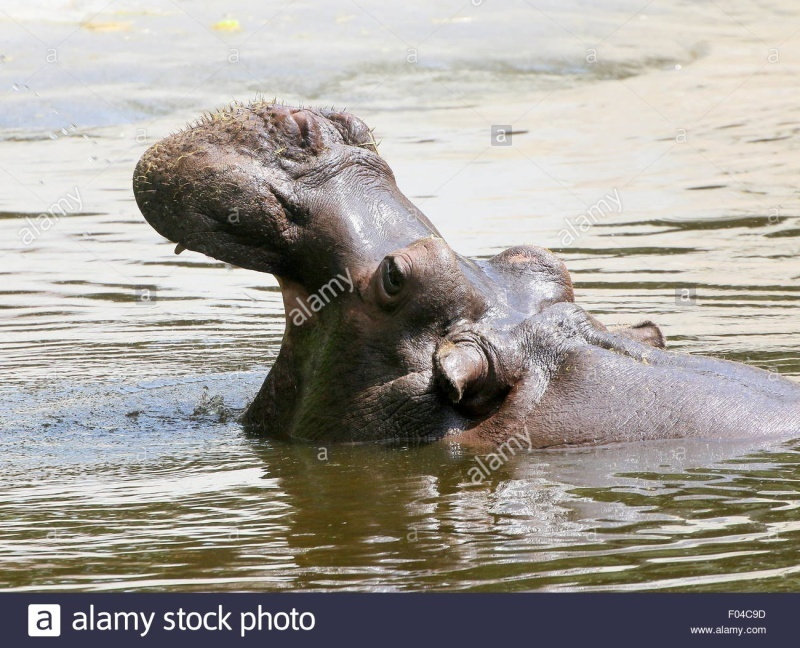hipopotamo: (108, 93, 800, 483)
